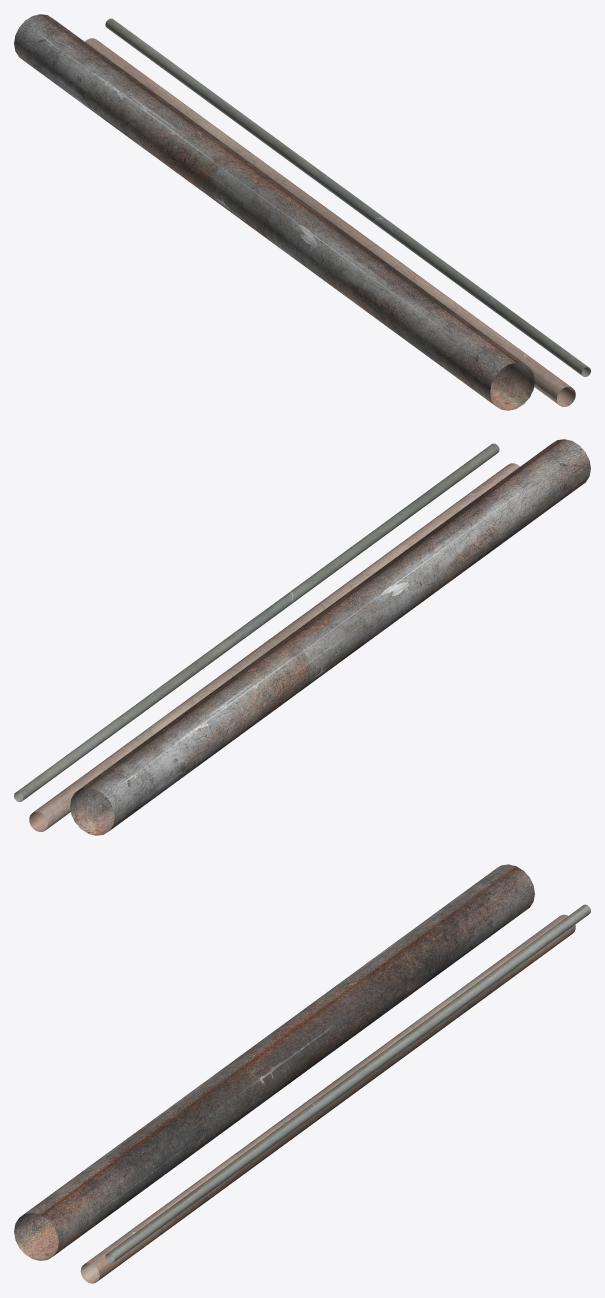
The model's file is pipe_02.FBX.
3 views of the same model, one above another, from view 1: azimuth 30°, elevation 25°; view 2: azimuth 150°, elevation 25°; view 3: azimuth 330°, elevation 25° (orthographic).
Parts seen in each view (by area): view 1: pipe_02; view 2: pipe_02; view 3: pipe_02.
Part boxes in pixels (x1=…): pipe_02: x1=14, y1=14, x2=590, y2=410; pipe_02: x1=14, y1=439, x2=590, y2=835; pipe_02: x1=14, y1=864, x2=590, y2=1283.
Bounding box in the file's own units: 12.22 × 6.53 × 100.
